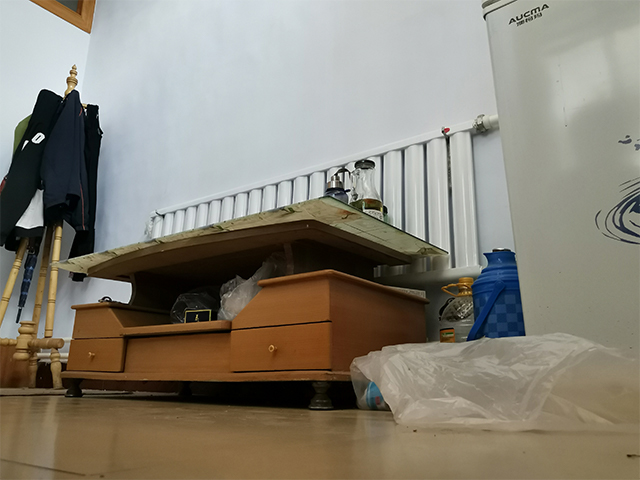cabinet: (45, 191, 453, 412)
